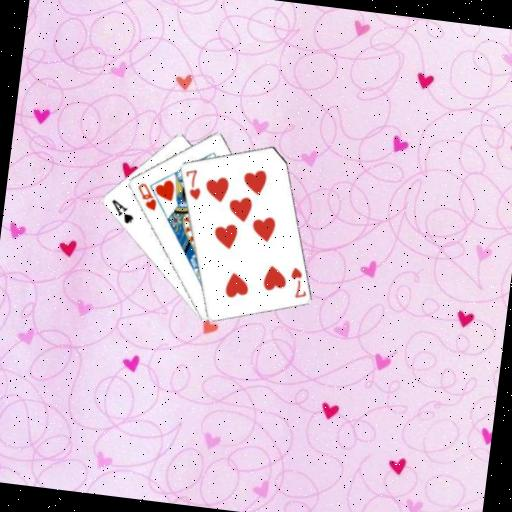7H: (179, 165, 205, 202), (285, 264, 311, 301)
AS: (105, 196, 137, 226)
QH: (132, 179, 161, 212)
